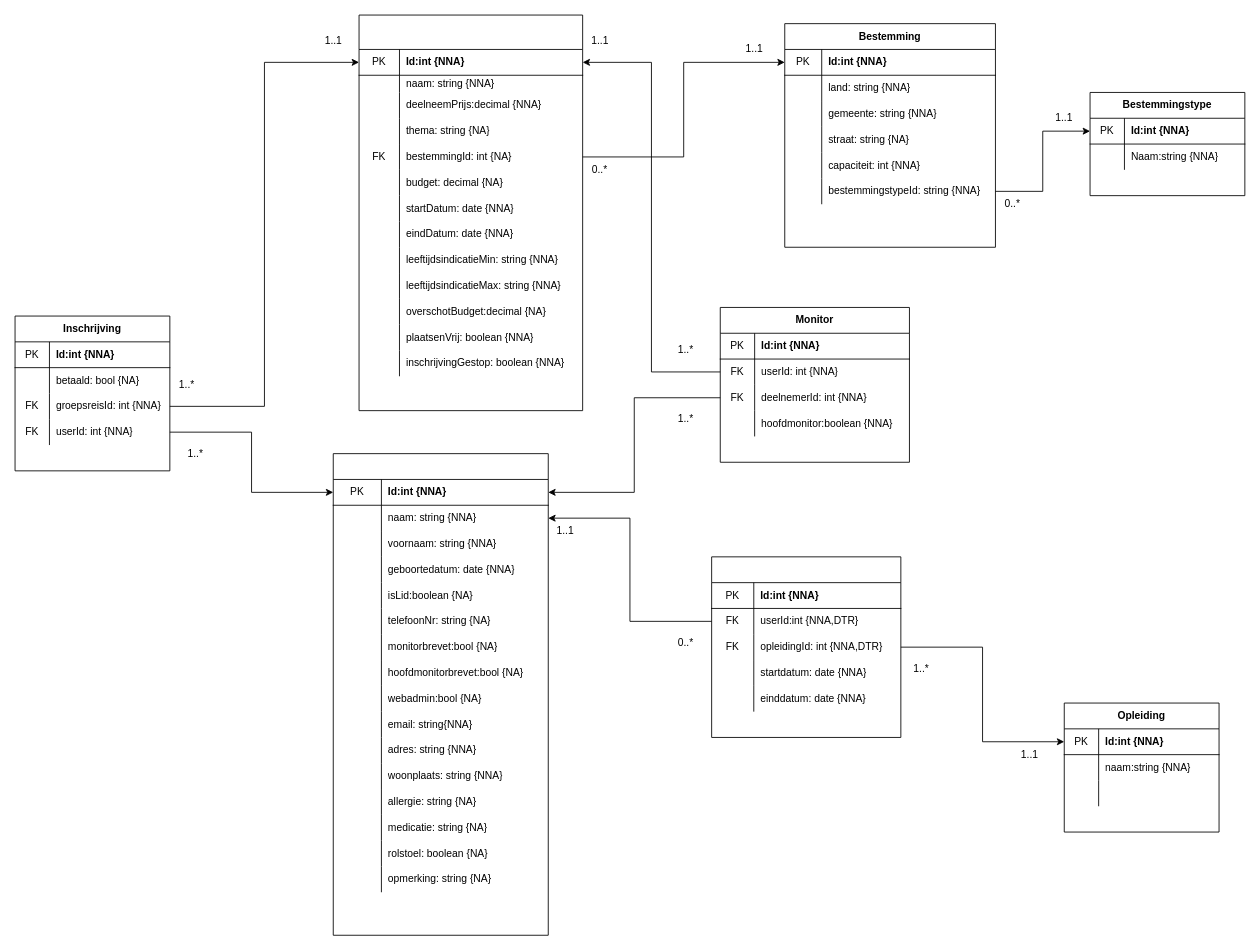
Some shapes in this 1260 by 950 pixel diagram are drawn without their labels. Each missing label, with the box of its shape:
Groepsreis: (358, 14, 583, 411)
User: (332, 453, 548, 935)
UserOpleiding: (711, 556, 901, 737)
